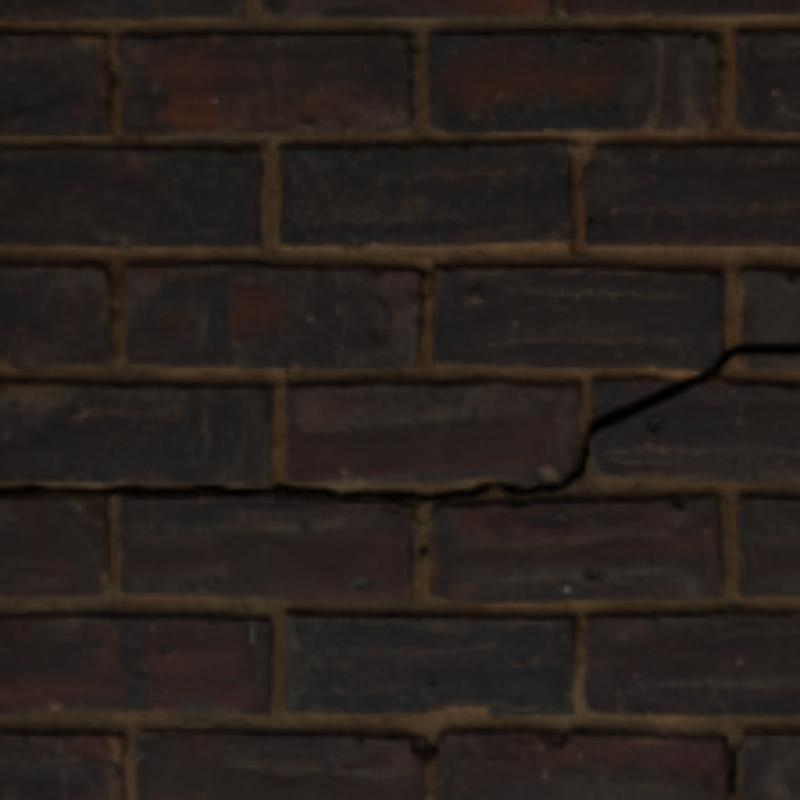crack: (0, 343, 796, 500)
